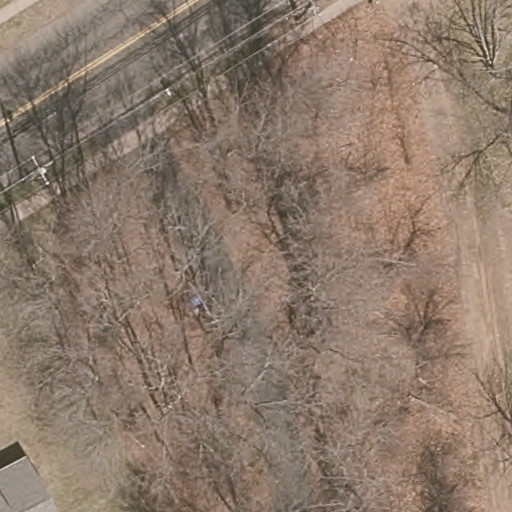DT: (29, 154, 55, 188), (288, 1, 318, 28)
